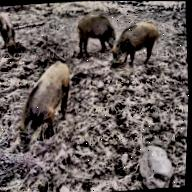boar: (7, 42, 85, 159), (104, 9, 162, 71), (64, 0, 121, 53)
